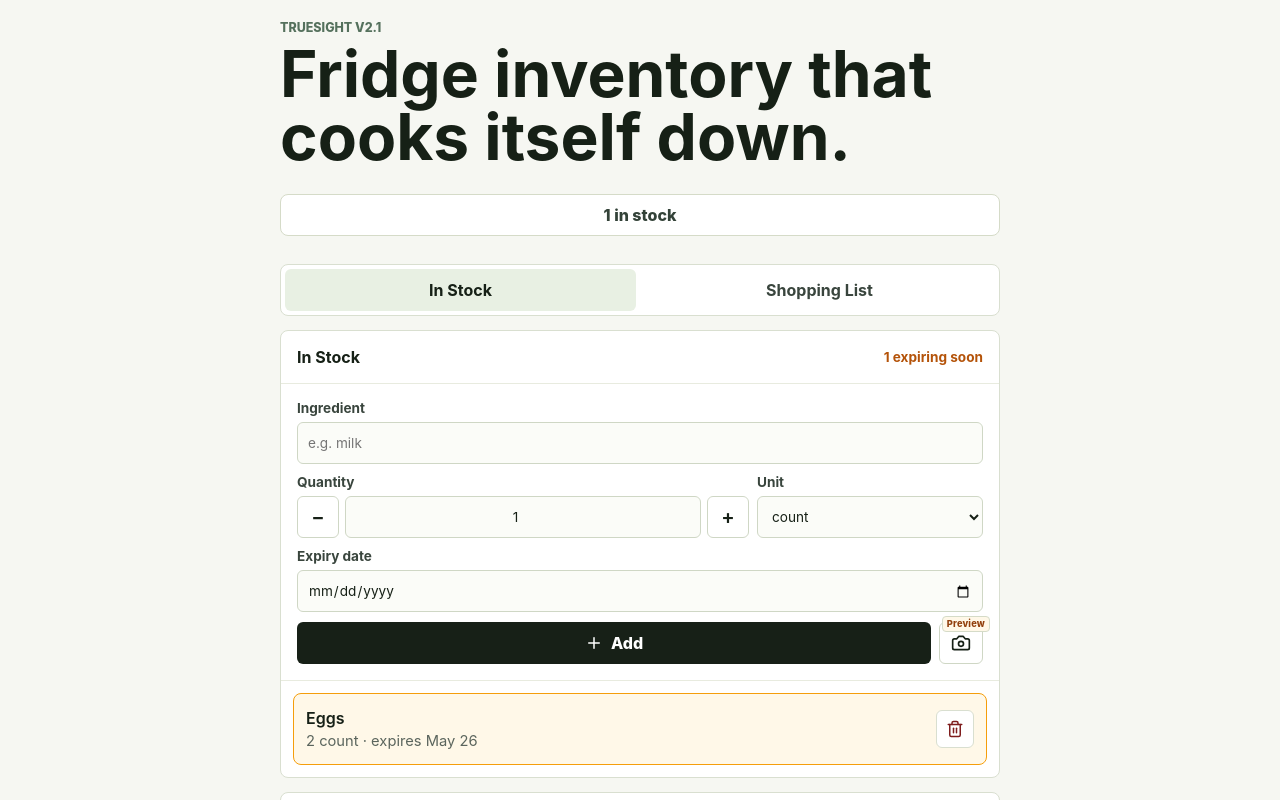
Test: App › opens the fridge photo preview overlay
This screenshot has width=1280, height=800.
expect the heading "Eggs" is shown: met, box [306, 708, 344, 728]
Click the button with aria-label "Try fridge photo preview" at (961, 643), box [939, 622, 983, 664]
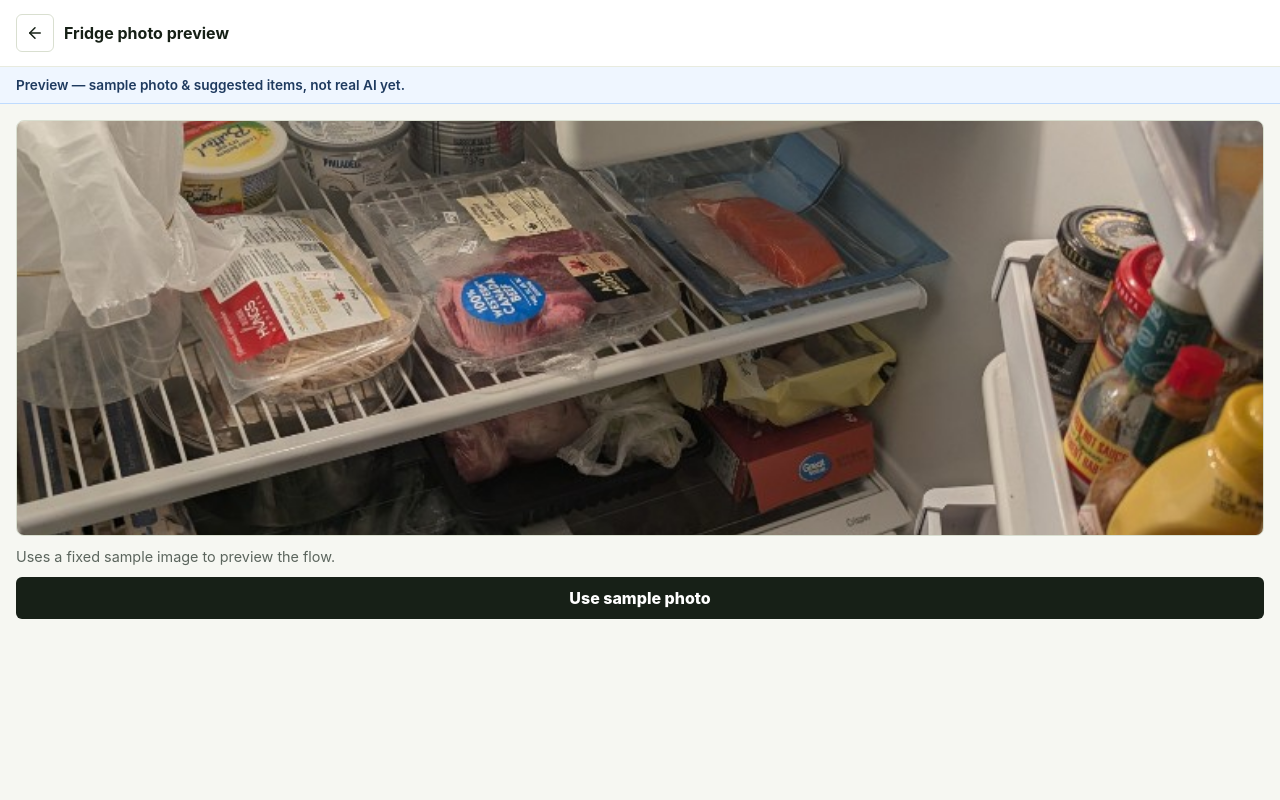
expect the dialog is shown: met
expect the text "Preview — sample photo & suggested items, not real AI yet." is shown: met, box [0, 67, 1279, 104]
